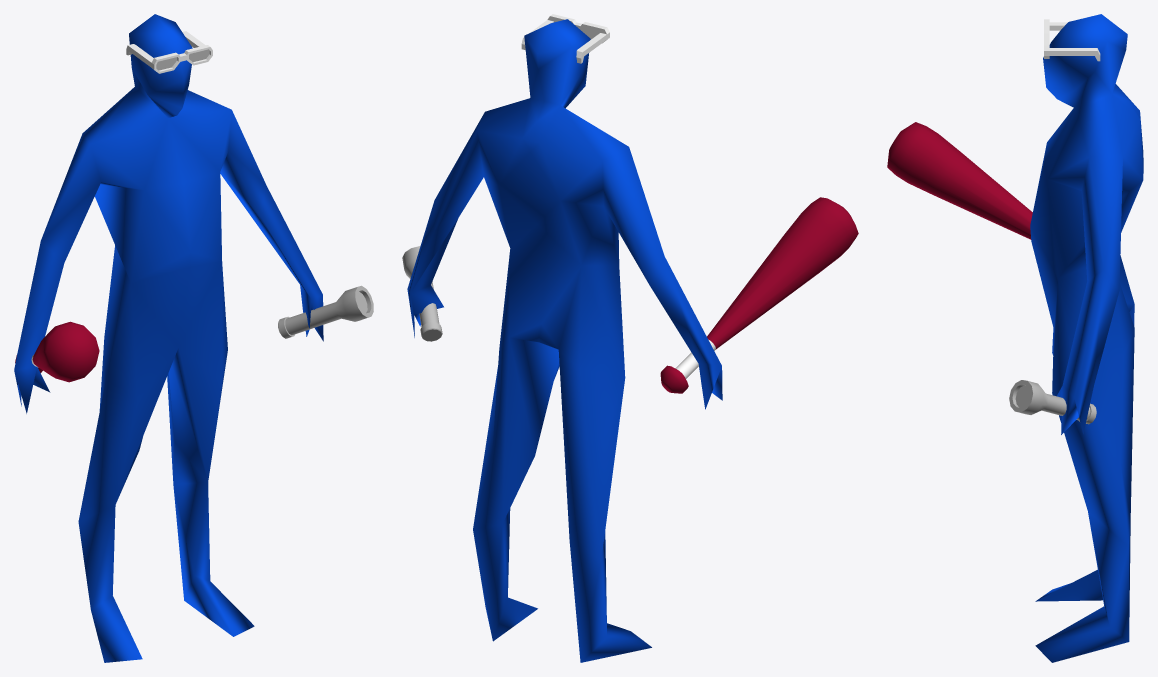
The model's file is guard bod.fbx.
3 renders of one model, left to right at view 1: azimuth 30°, elevation 25°; view 2: azimuth 150°, elevation 25°; view 3: azimuth 270°, elevation 25°, orthographic.
Visible parts, largest first — view 1: Bod, Bonkge, Torch, Glarses; view 2: Bod, Bonkge, Torch, Glarses; view 3: Bod, Bonkge, Torch, Glarses.
Part boxes in pixels (<box>): Bod: <box>14,14,323,662</box>; Bonkge: <box>15,321,99,382</box>; Torch: <box>278,285,373,338</box>; Glarses: <box>126,31,212,73</box>; Bod: <box>407,19,722,662</box>; Bonkge: <box>660,197,858,393</box>; Torch: <box>402,246,442,341</box>; Glarses: <box>521,14,609,63</box>; Bod: <box>1030,14,1143,662</box>; Bonkge: <box>887,122,1032,239</box>; Torch: <box>1009,380,1096,424</box>; Glarses: <box>1044,19,1100,61</box>.
Bounding box in the file's own units: 118 × 180 × 68.31.
